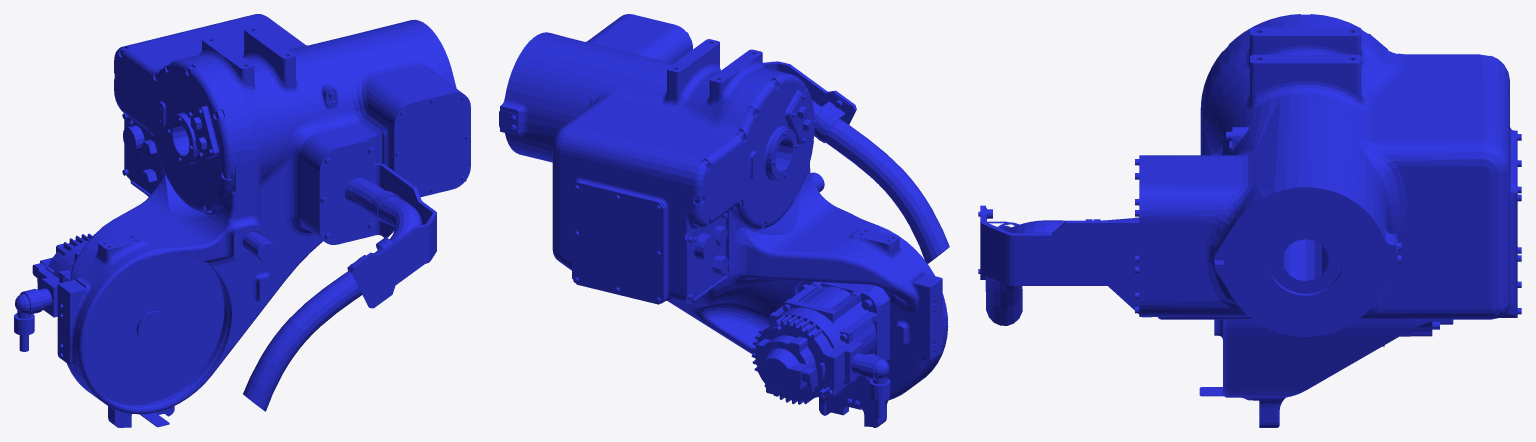
3 views of the same model, side by side, from view 1: azimuth 30°, elevation 25°; view 2: azimuth 150°, elevation 25°; view 3: azimuth 270°, elevation 25° (orthographic). The views are drawn at different scales.
Parts seen in each view (by area): view 1: Link3; view 2: Link3; view 3: Link3.
Boxes of the visible parts, <box> form: Link3: <box>14,14,470,427</box>; Link3: <box>499,14,949,427</box>; Link3: <box>978,14,1521,427</box>.
Bounding box in the file's own units: 0.634 × 0.5851 × 0.5335.
